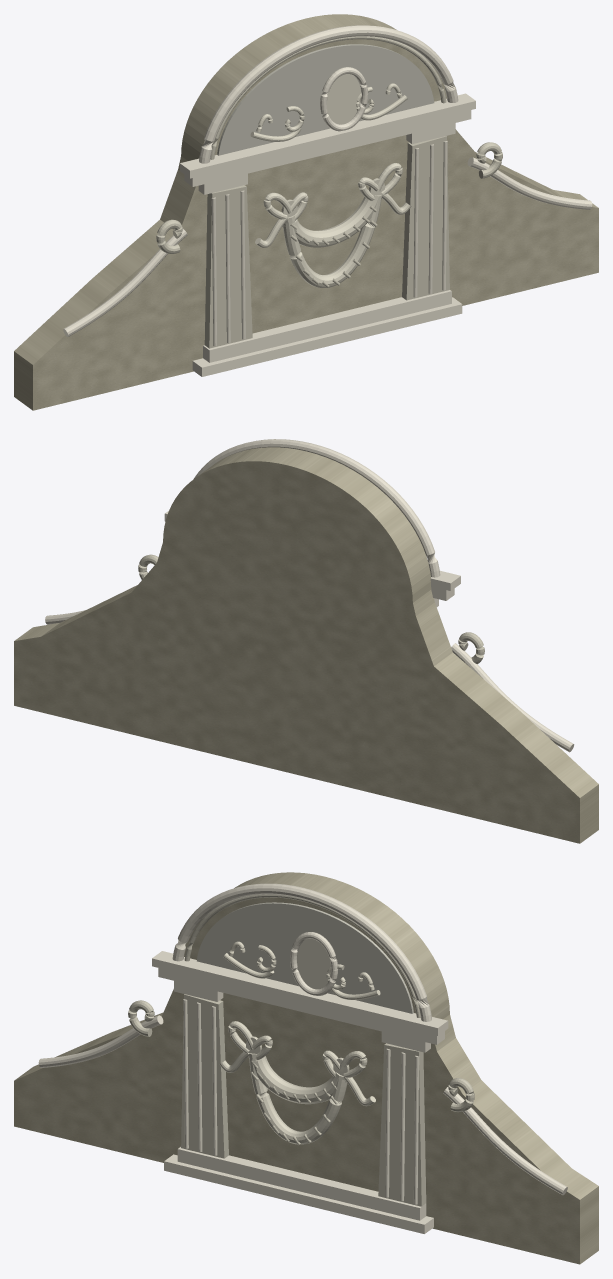
Rendered from fengyang-450-garland-pediment-near.glb.
The picture shows the model from 3 angles, top to bottom: view 1: azimuth 30°, elevation 25°; view 2: azimuth 150°, elevation 25°; view 3: azimuth 330°, elevation 25°; orthographic projection.
Parts seen in each view (by area): view 1: 凤阳路450号小楼半圆山花与绶带花环; view 2: 凤阳路450号小楼半圆山花与绶带花环; view 3: 凤阳路450号小楼半圆山花与绶带花环.
Boxes of the visible parts, x1,y1,x2,y2 form: 凤阳路450号小楼半圆山花与绶带花环: (14,14,598,410); 凤阳路450号小楼半圆山花与绶带花环: (14,439,598,843); 凤阳路450号小楼半圆山花与绶带花环: (14,872,598,1264).
Bounding box in the file's own units: 6.02 × 3.17 × 0.5478.
Materials: 5 (1 with a texture image).
